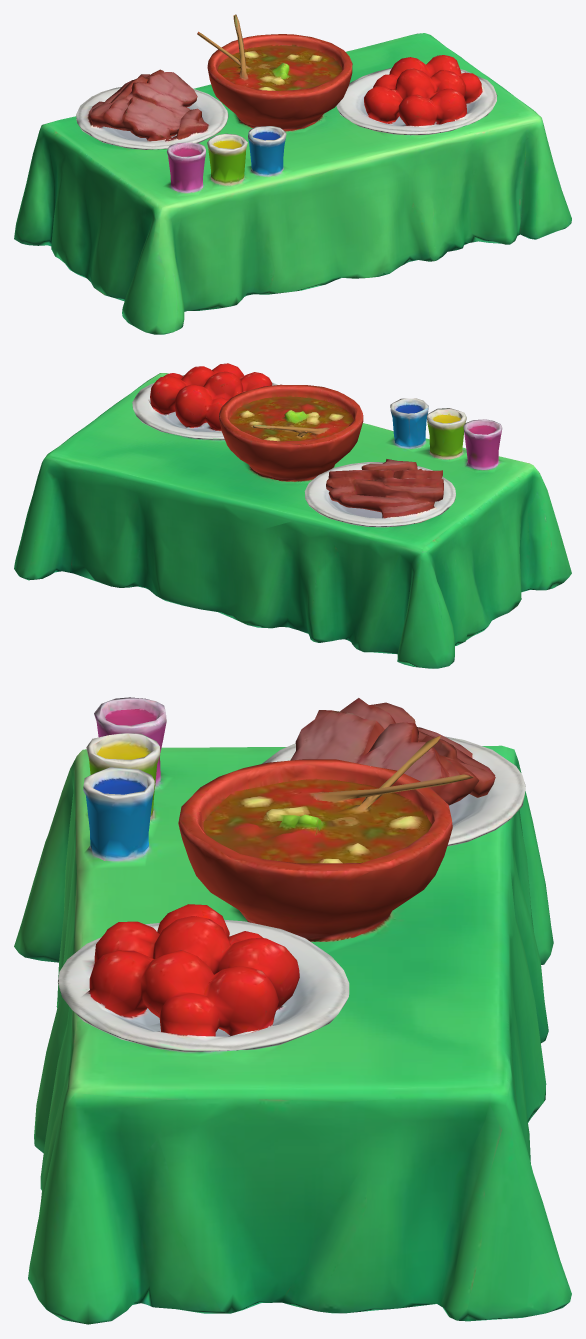
The model's file is foodtable.glb.
3 views of the same model, one above another, from view 1: azimuth 30°, elevation 25°; view 2: azimuth 150°, elevation 25°; view 3: azimuth 270°, elevation 25° (orthographic). The views are drawn at different scales.
Bounding box in the file's own units: 0.9967 × 0.399 × 0.5897.
1 material, 1 textured.
